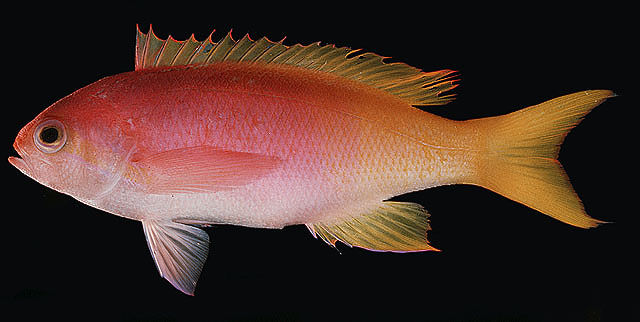fish: (7, 23, 619, 297)
